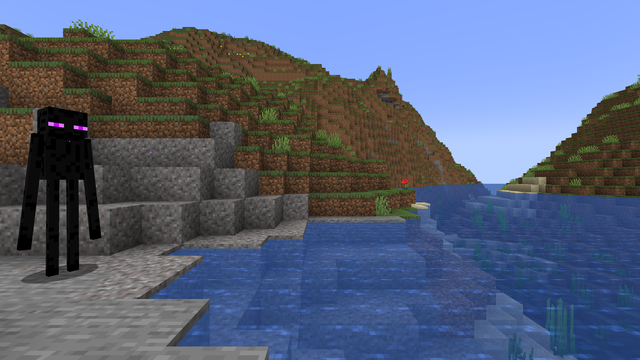endermens: (26, 101, 94, 278)
